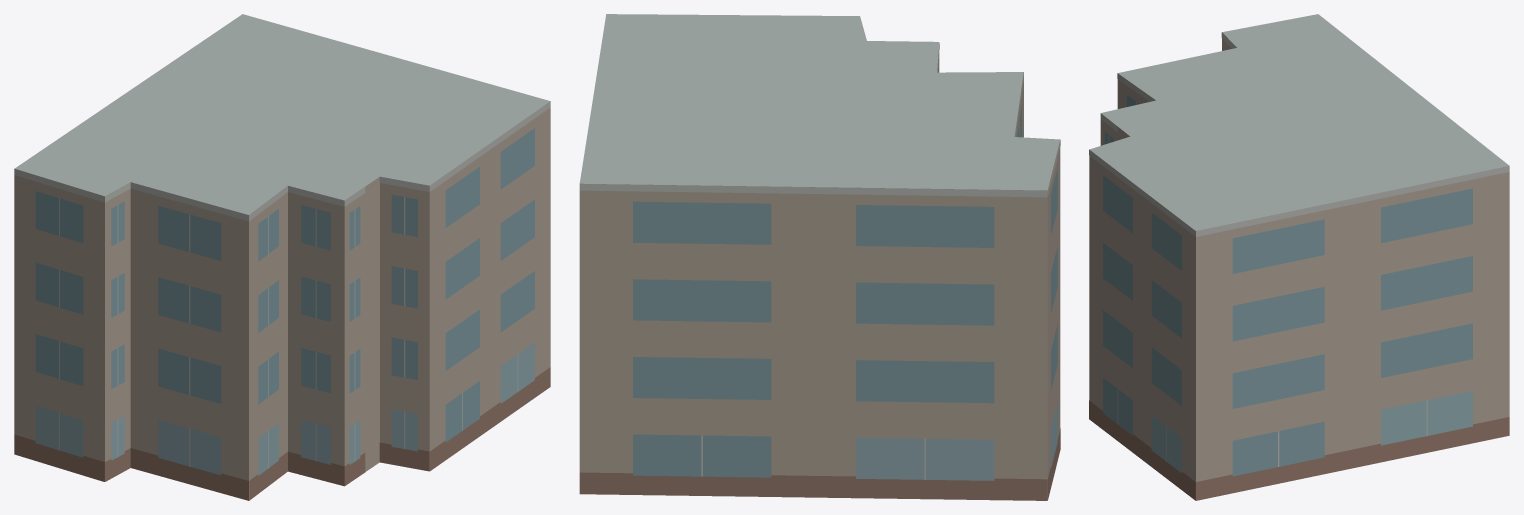
The model's file is survey-upis-32858125.glb.
3 views of the same model, side by side, from view 1: azimuth 30°, elevation 25°; view 2: azimuth 150°, elevation 25°; view 3: azimuth 270°, elevation 25° (orthographic). The views are drawn at different scales.
Visible parts, largest first — view 1: survey-upis-32858125.tmp; view 2: survey-upis-32858125.tmp; view 3: survey-upis-32858125.tmp.
Part boxes in pixels (x1,y1,x2,y2): survey-upis-32858125.tmp: (14,14,550,500); survey-upis-32858125.tmp: (579,14,1060,500); survey-upis-32858125.tmp: (1089,14,1509,500).
Bounding box in the file's own units: 18.99 × 11 × 15.55.
